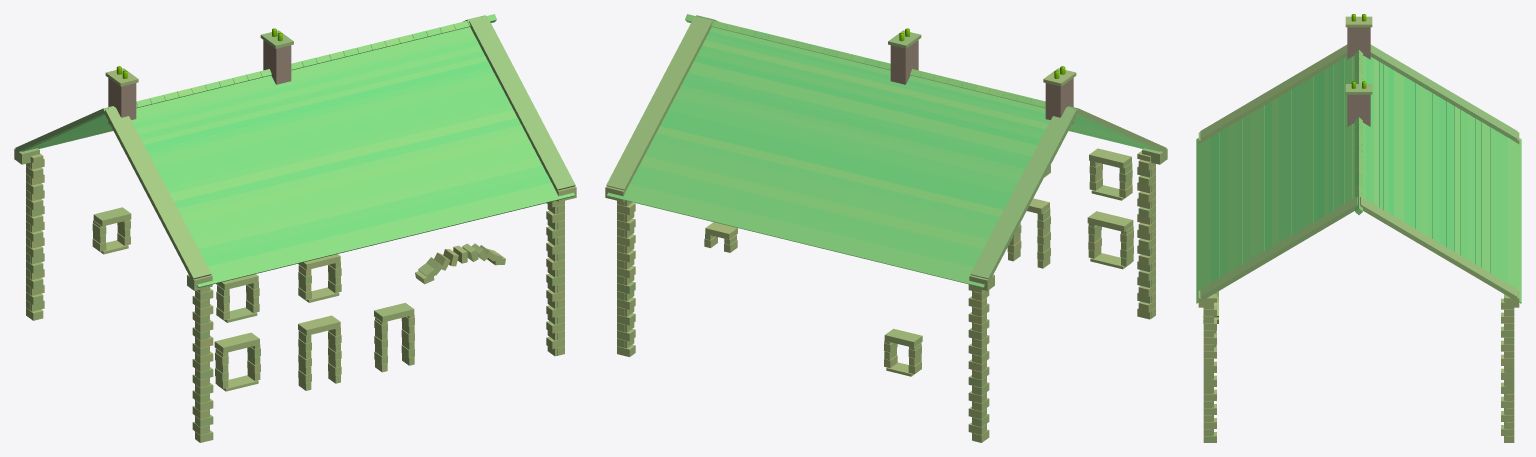
Rendered from SM_Bld_101_Stone.glb.
3 views of the same model, side by side, from view 1: azimuth 30°, elevation 25°; view 2: azimuth 150°, elevation 25°; view 3: azimuth 270°, elevation 25° (orthographic). The views are drawn at different scales.
Parts seen in each view (by area): view 1: SM_Bld_101_Stone; view 2: SM_Bld_101_Stone; view 3: SM_Bld_101_Stone.
Part boxes in pixels (x1,y1,x2,y2): SM_Bld_101_Stone: (14, 14, 576, 442); SM_Bld_101_Stone: (605, 14, 1167, 442); SM_Bld_101_Stone: (1196, 14, 1521, 442).
Size of the model in its own units: 15.55 by 11.7 by 12.61.
